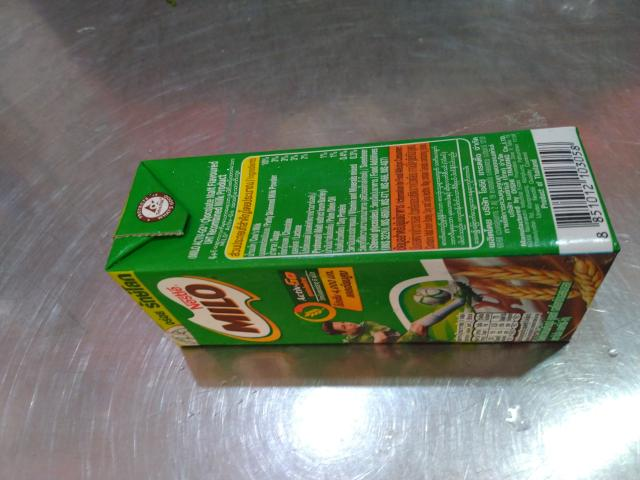drink_box: (96, 119, 637, 370)
